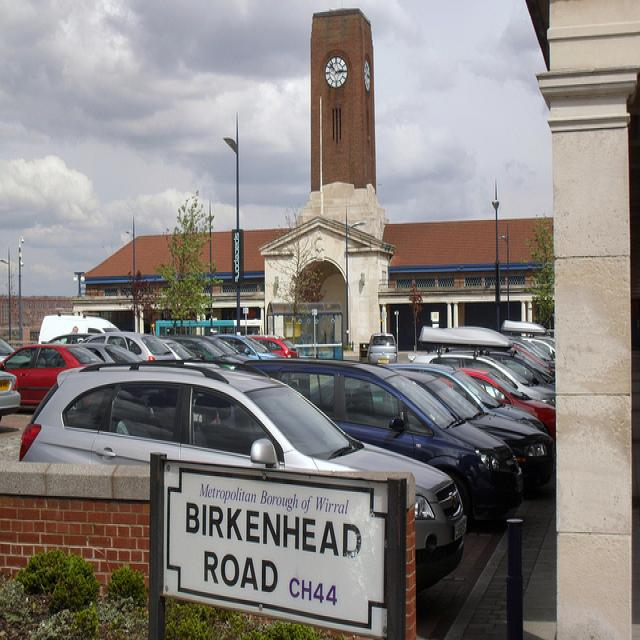Vehicle: (18, 362, 472, 601), (63, 318, 541, 418), (245, 364, 522, 523), (384, 363, 554, 491), (398, 362, 550, 435), (0, 343, 106, 406), (466, 351, 555, 393), (78, 331, 177, 361), (38, 313, 120, 344), (168, 334, 248, 364), (146, 330, 195, 361), (80, 342, 146, 362), (0, 370, 21, 422), (366, 334, 398, 365), (518, 338, 555, 362)
